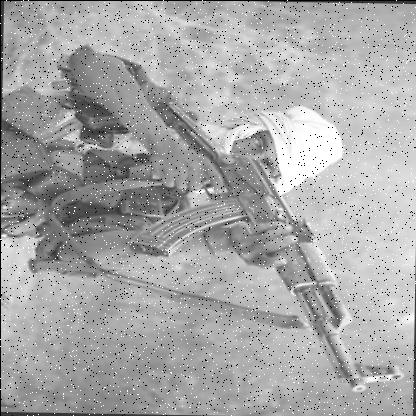rifle: (119, 100, 394, 393)
